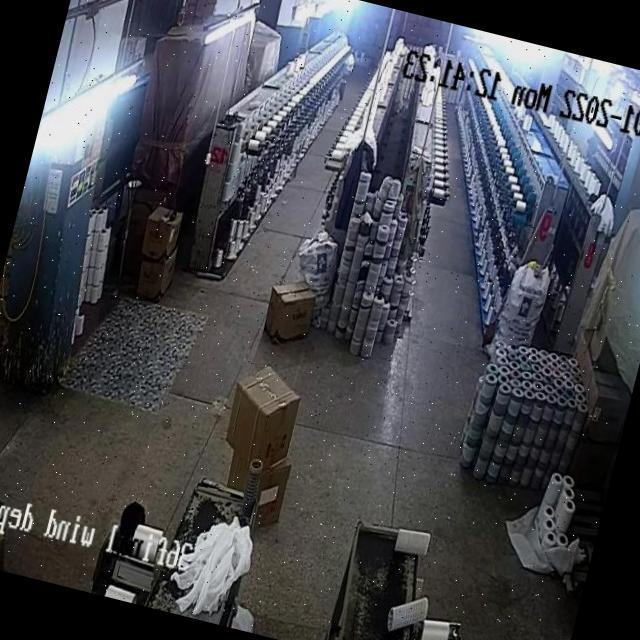person: (102, 498, 144, 574)
